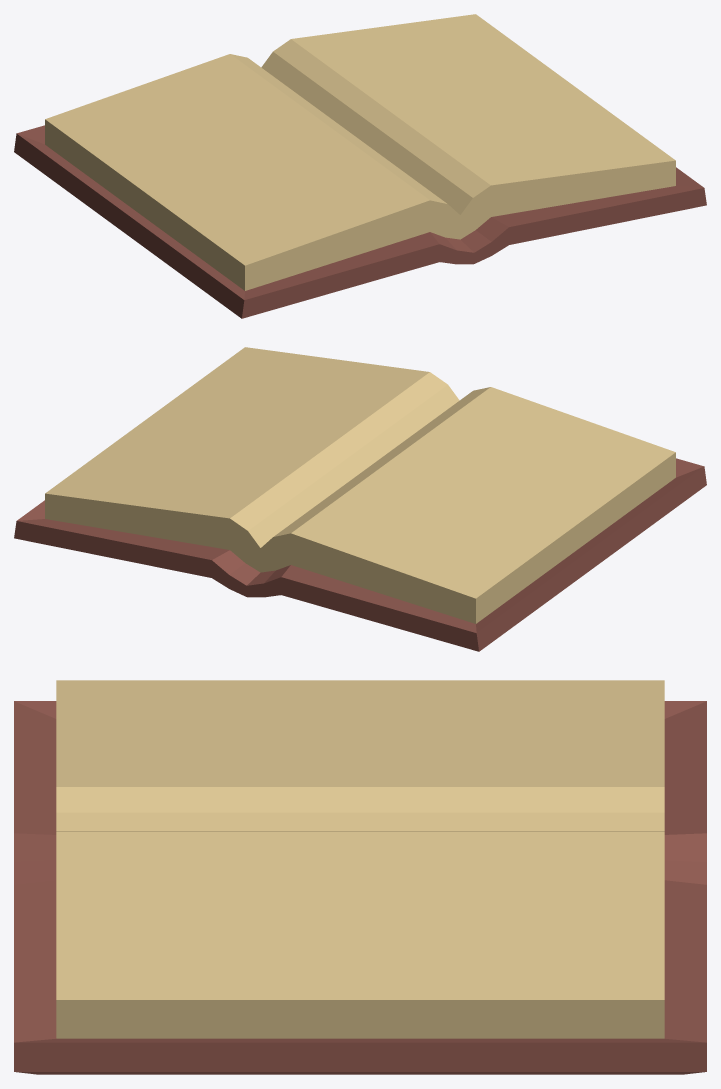
The model's file is book_open.fbx.
3 views of the same model, one above another, from view 1: azimuth 30°, elevation 25°; view 2: azimuth 150°, elevation 25°; view 3: azimuth 270°, elevation 25° (orthographic). The views are drawn at different scales.
Parts seen in each view (by area): view 1: Book_Open; view 2: Book_Open; view 3: Book_Open.
Boxes of the visible parts, x1,y1,x2,y2 form: Book_Open: [14, 14, 706, 318]; Book_Open: [14, 347, 706, 651]; Book_Open: [14, 680, 706, 1074].
Bounding box in the file's own units: 60.04 × 8.15 × 50.94.
